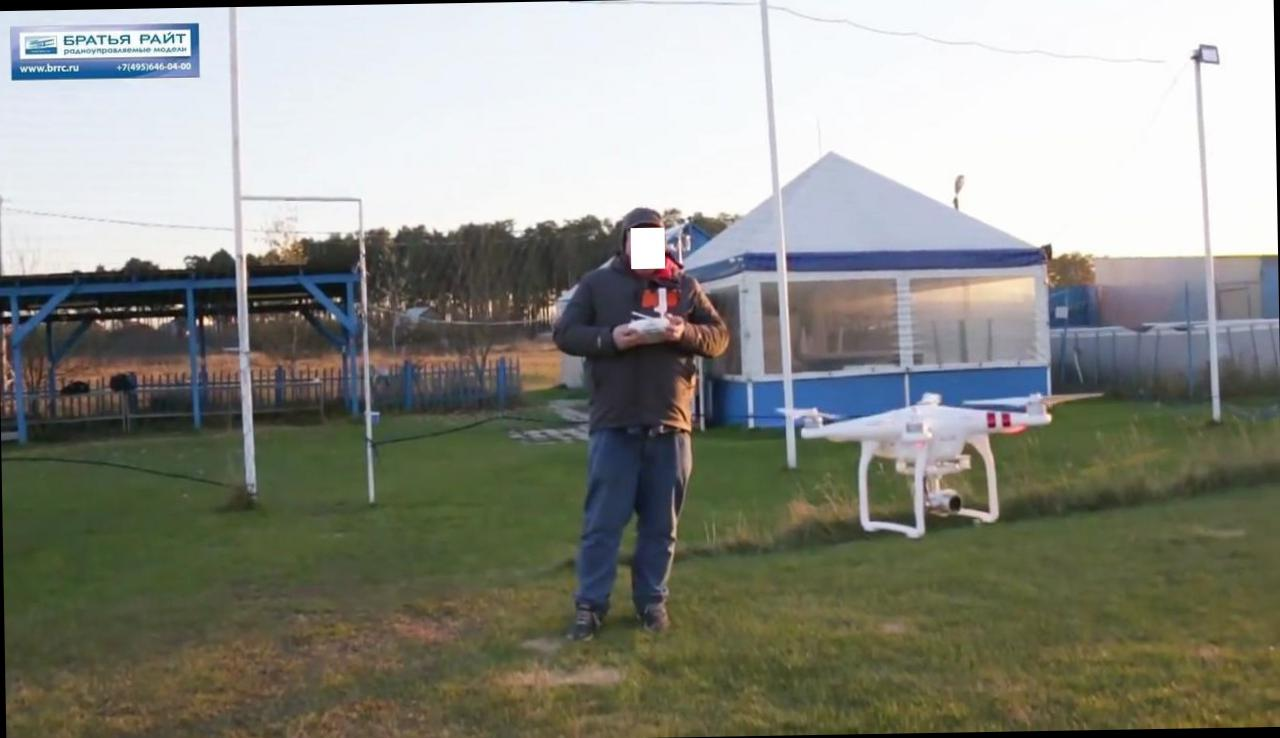drone: (769, 383, 1090, 538)
